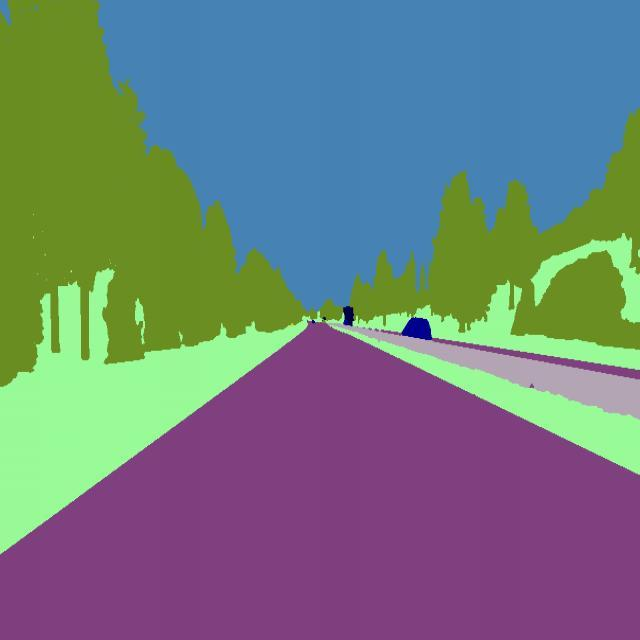safe: (398, 315, 436, 344), (341, 302, 357, 330)
